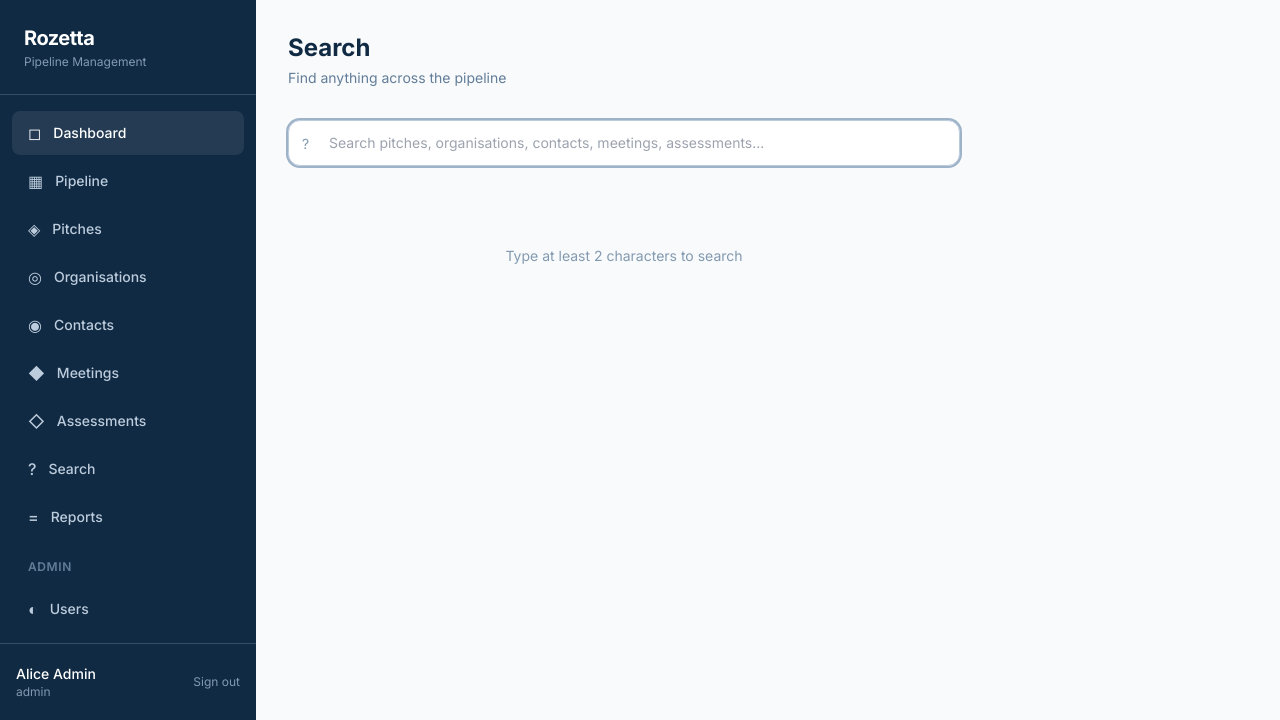
Test: pages without a table, on a 360px screen › search results do not overflow the viewport
Replace the text in the field with placeholder "Search pitches" with "rangeland" at (624, 143), box [288, 120, 960, 166]
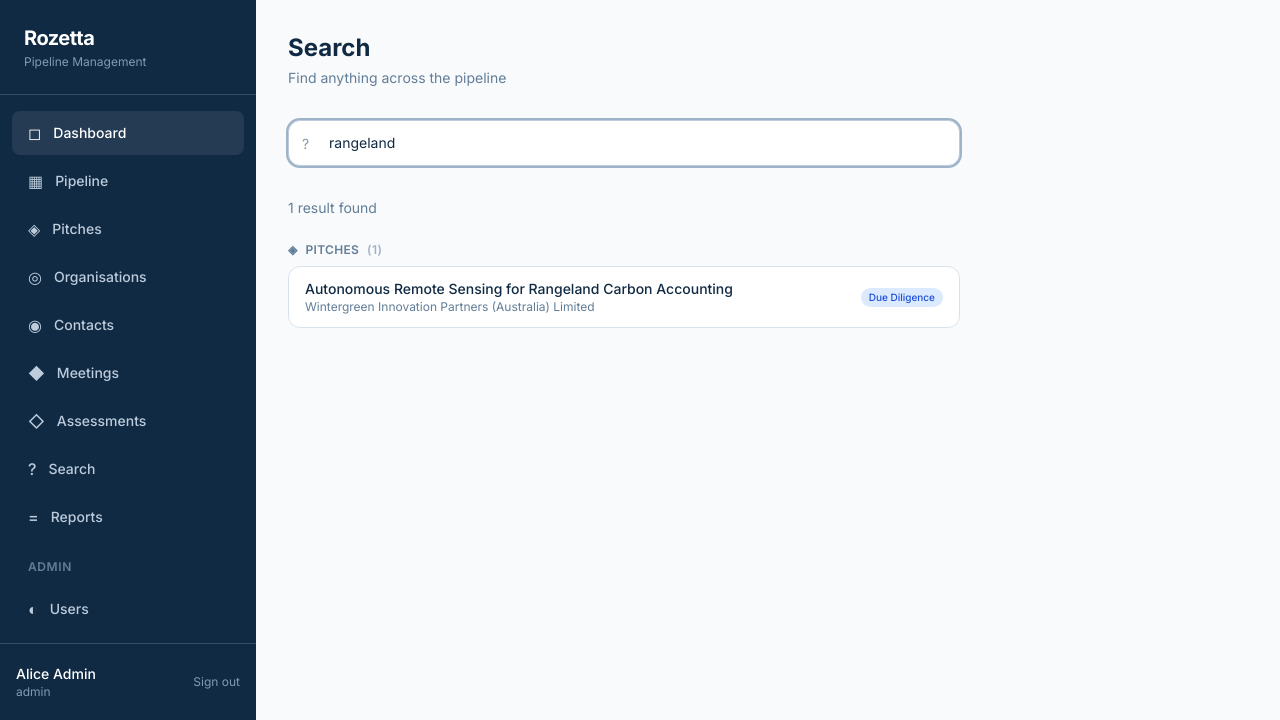
Expected: the text "Autonomous Remote Sensing for Rangeland Carbon Accounting" is shown, [305, 279, 733, 299]
